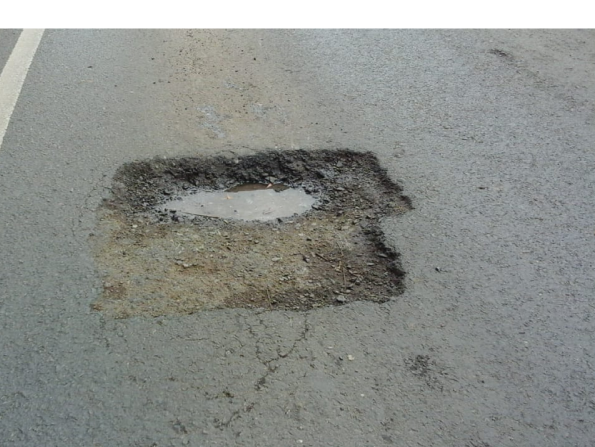Berlubang: (78, 145, 423, 332)
